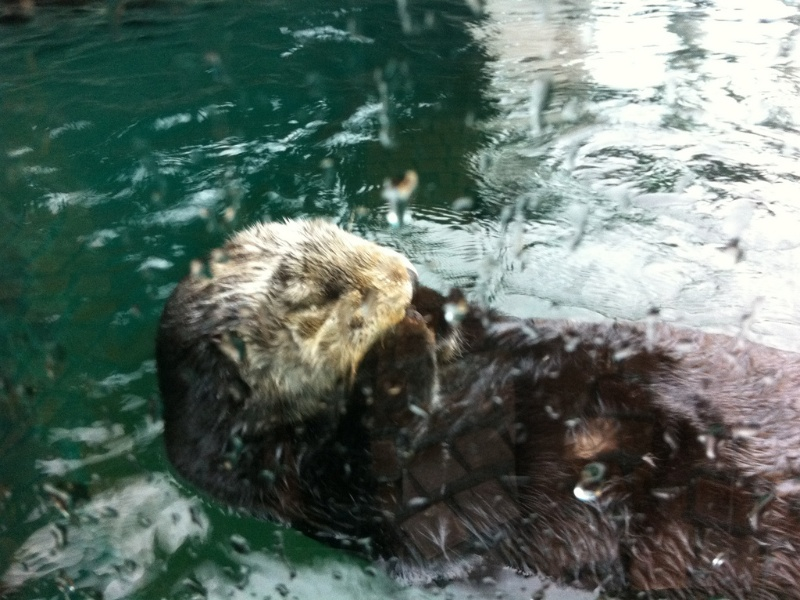minkish: (150, 217, 787, 592)
